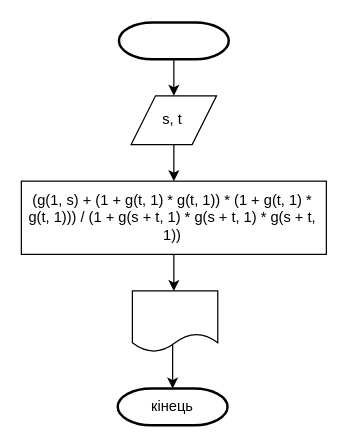
The diagram is 348 pixels wide and 447 high, and some of its shapes have lost their labels. Each missing label, with the centre of its shape:
"початок" goes at (x=173, y=40).
"Результат" goes at (x=174, y=321).
